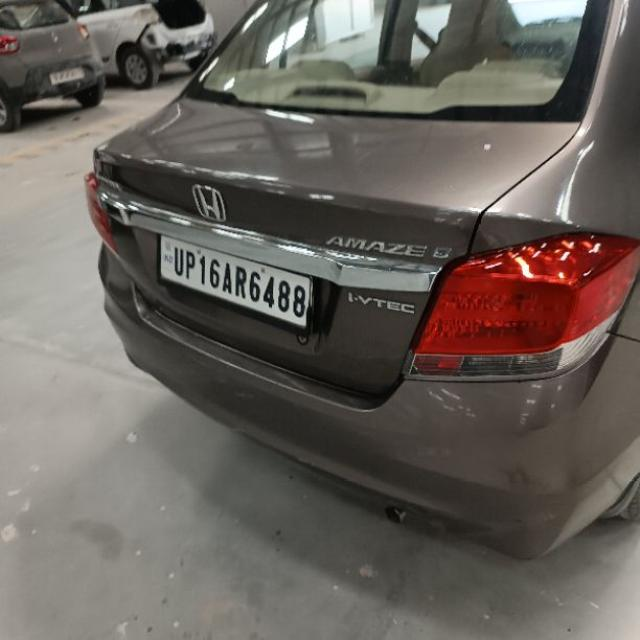license_plate: (156, 232, 315, 335)
